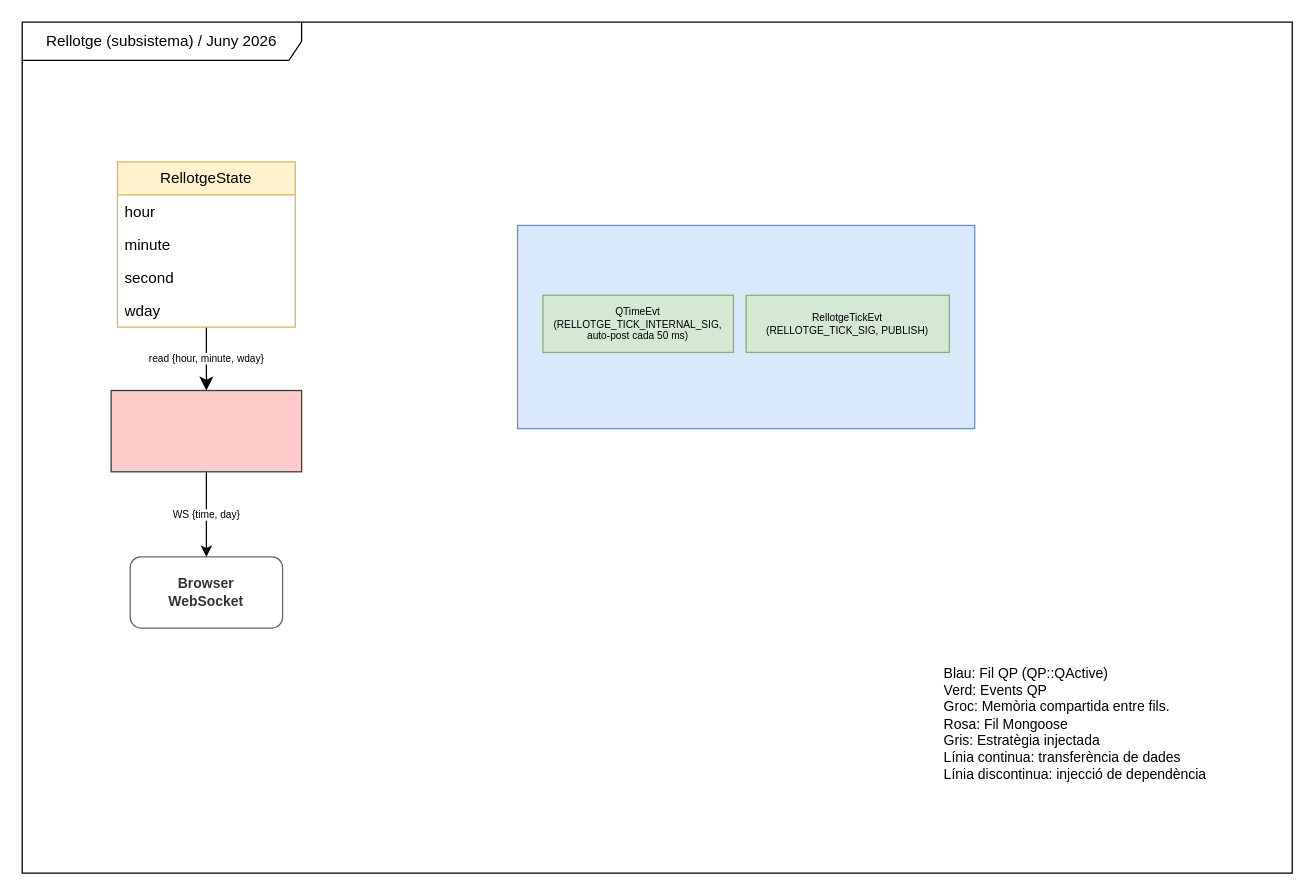
Some shapes in this 1314 by 895 pixel diagram are drawn without their labels. Here are the shapes that lost their labels. From the top down, the box of each, then its label:
(516, 224, 975, 429): Rellotge (QP::QActive)
(110, 389, 302, 472): HttpServer (thread Mongoose)
